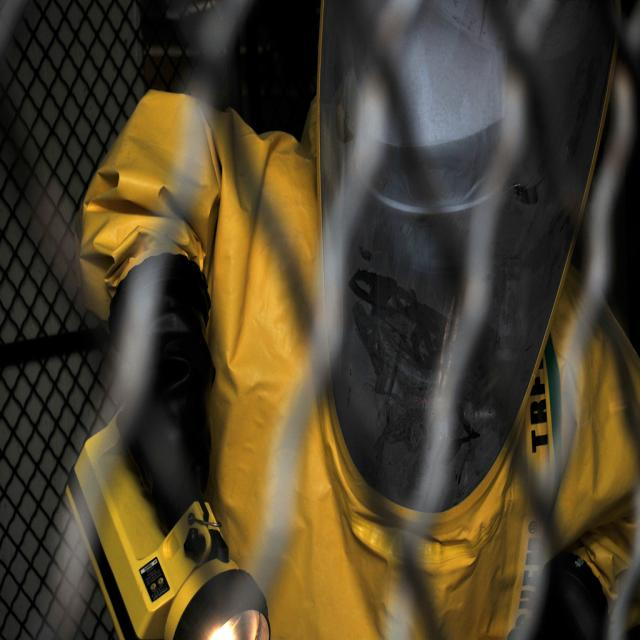no_fire: (65, 72, 640, 631)
